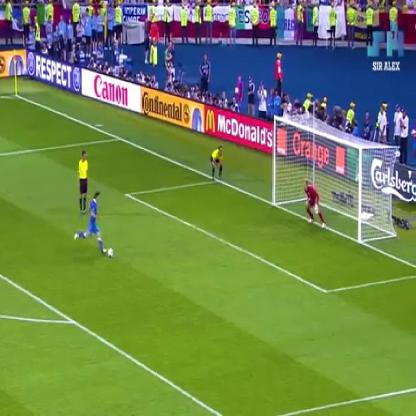penalty kick: (71, 117, 371, 252)
